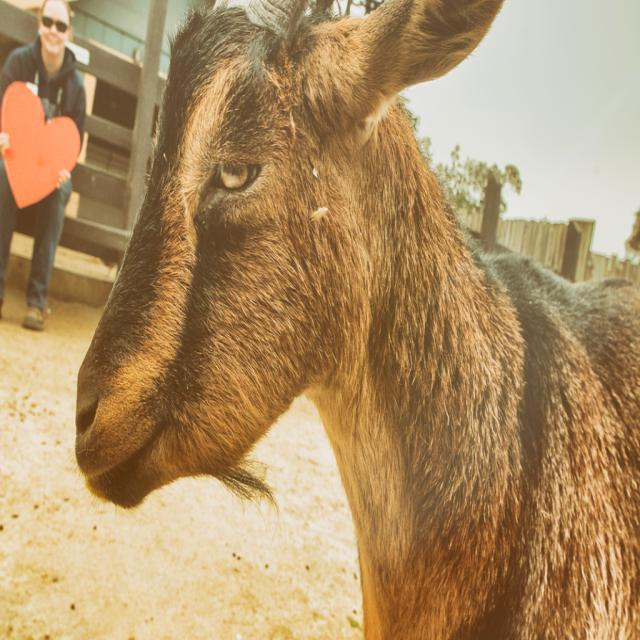Goat: (73, 0, 639, 638)
